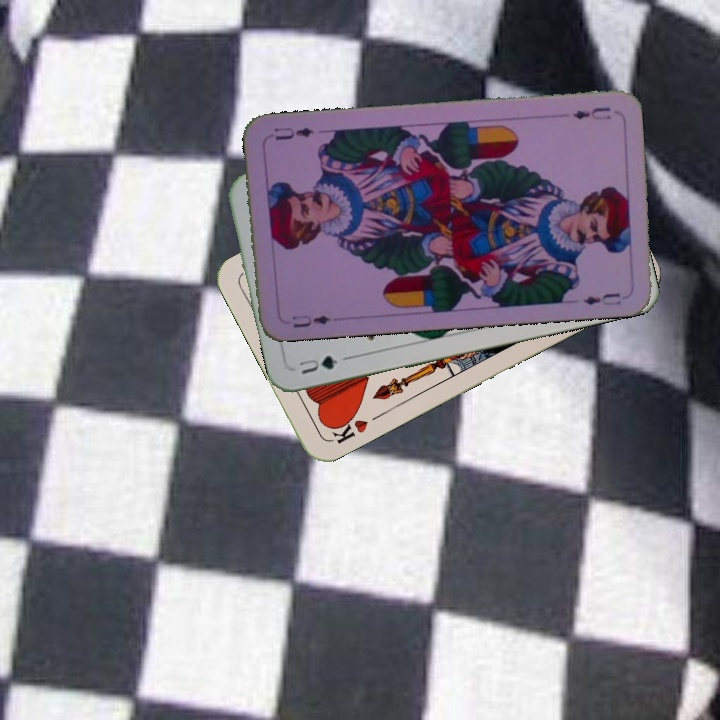EU: (287, 311, 333, 331), (569, 103, 613, 123)
GU: (295, 351, 341, 377)
HK: (324, 409, 371, 446)
